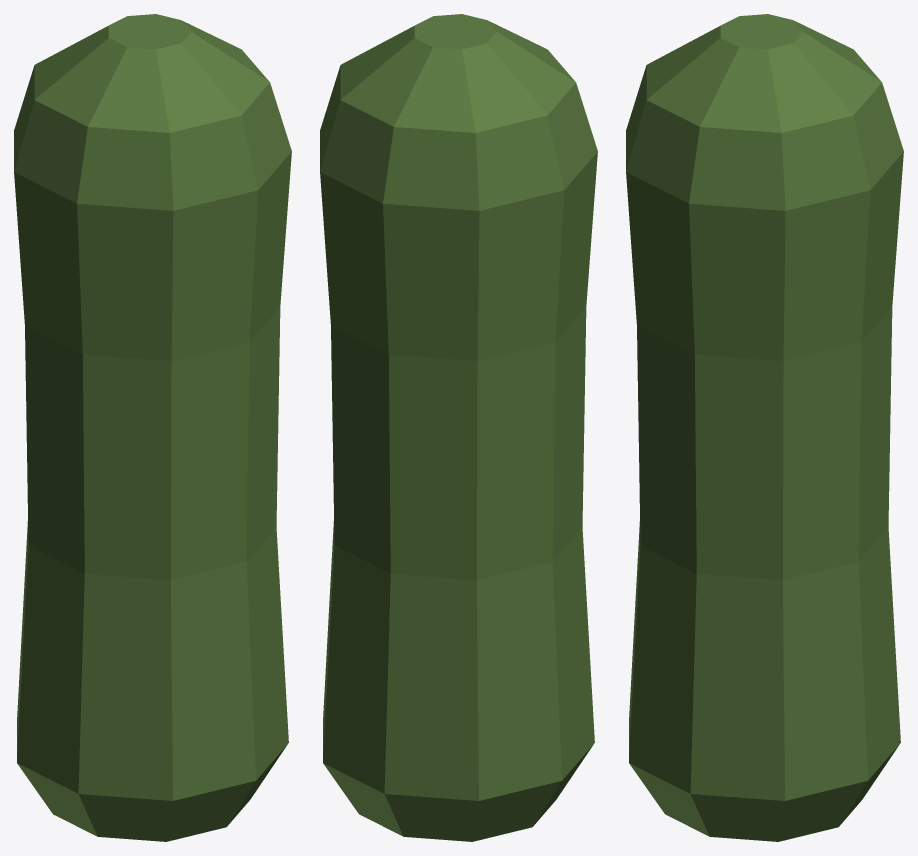
Rendered from Cucumber_02.fbx.
3 renders of one model, left to right at view 1: azimuth 30°, elevation 25°; view 2: azimuth 150°, elevation 25°; view 3: azimuth 270°, elevation 25°, orthographic.
Visible parts, largest first — view 1: Cucumber_02; view 2: Cucumber_02; view 3: Cucumber_02.
Boxes of the visible parts, bbox=[...] form: Cucumber_02: bbox=[14, 14, 291, 841]; Cucumber_02: bbox=[320, 14, 597, 841]; Cucumber_02: bbox=[626, 14, 903, 841].
Size of the model in its own units: 5.21 by 16.17 by 5.13.
